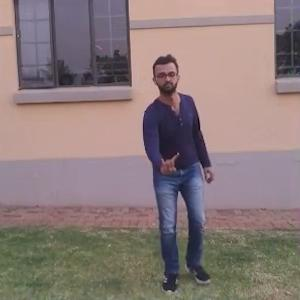takeoff-hand: (153, 144, 182, 180)
